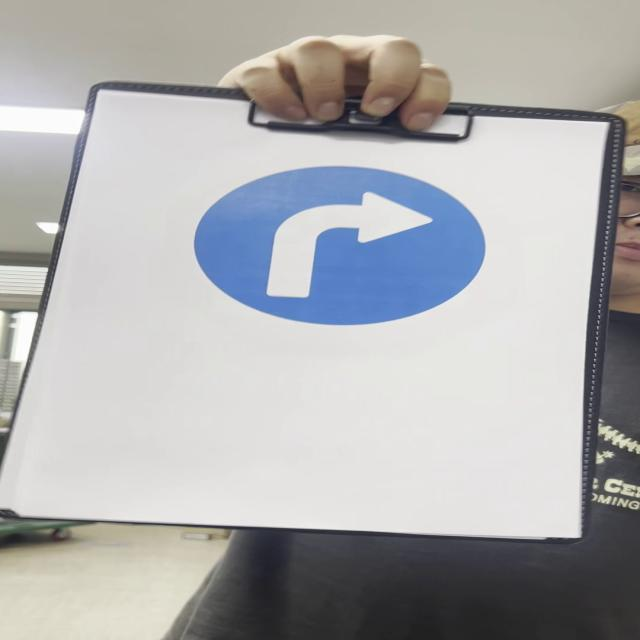right: (197, 166, 486, 328)
